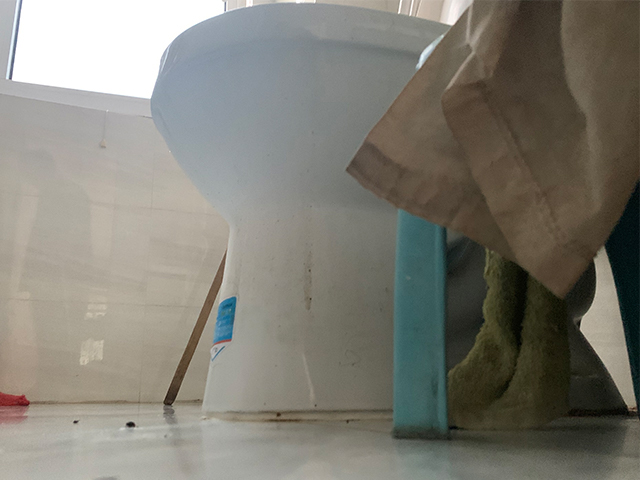closestool: (145, 1, 631, 413)
